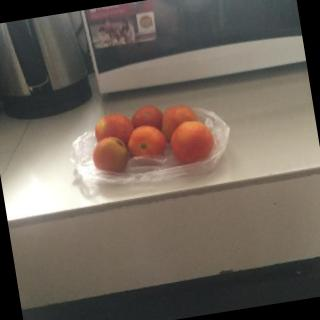Tomat: (75, 87, 223, 188)
